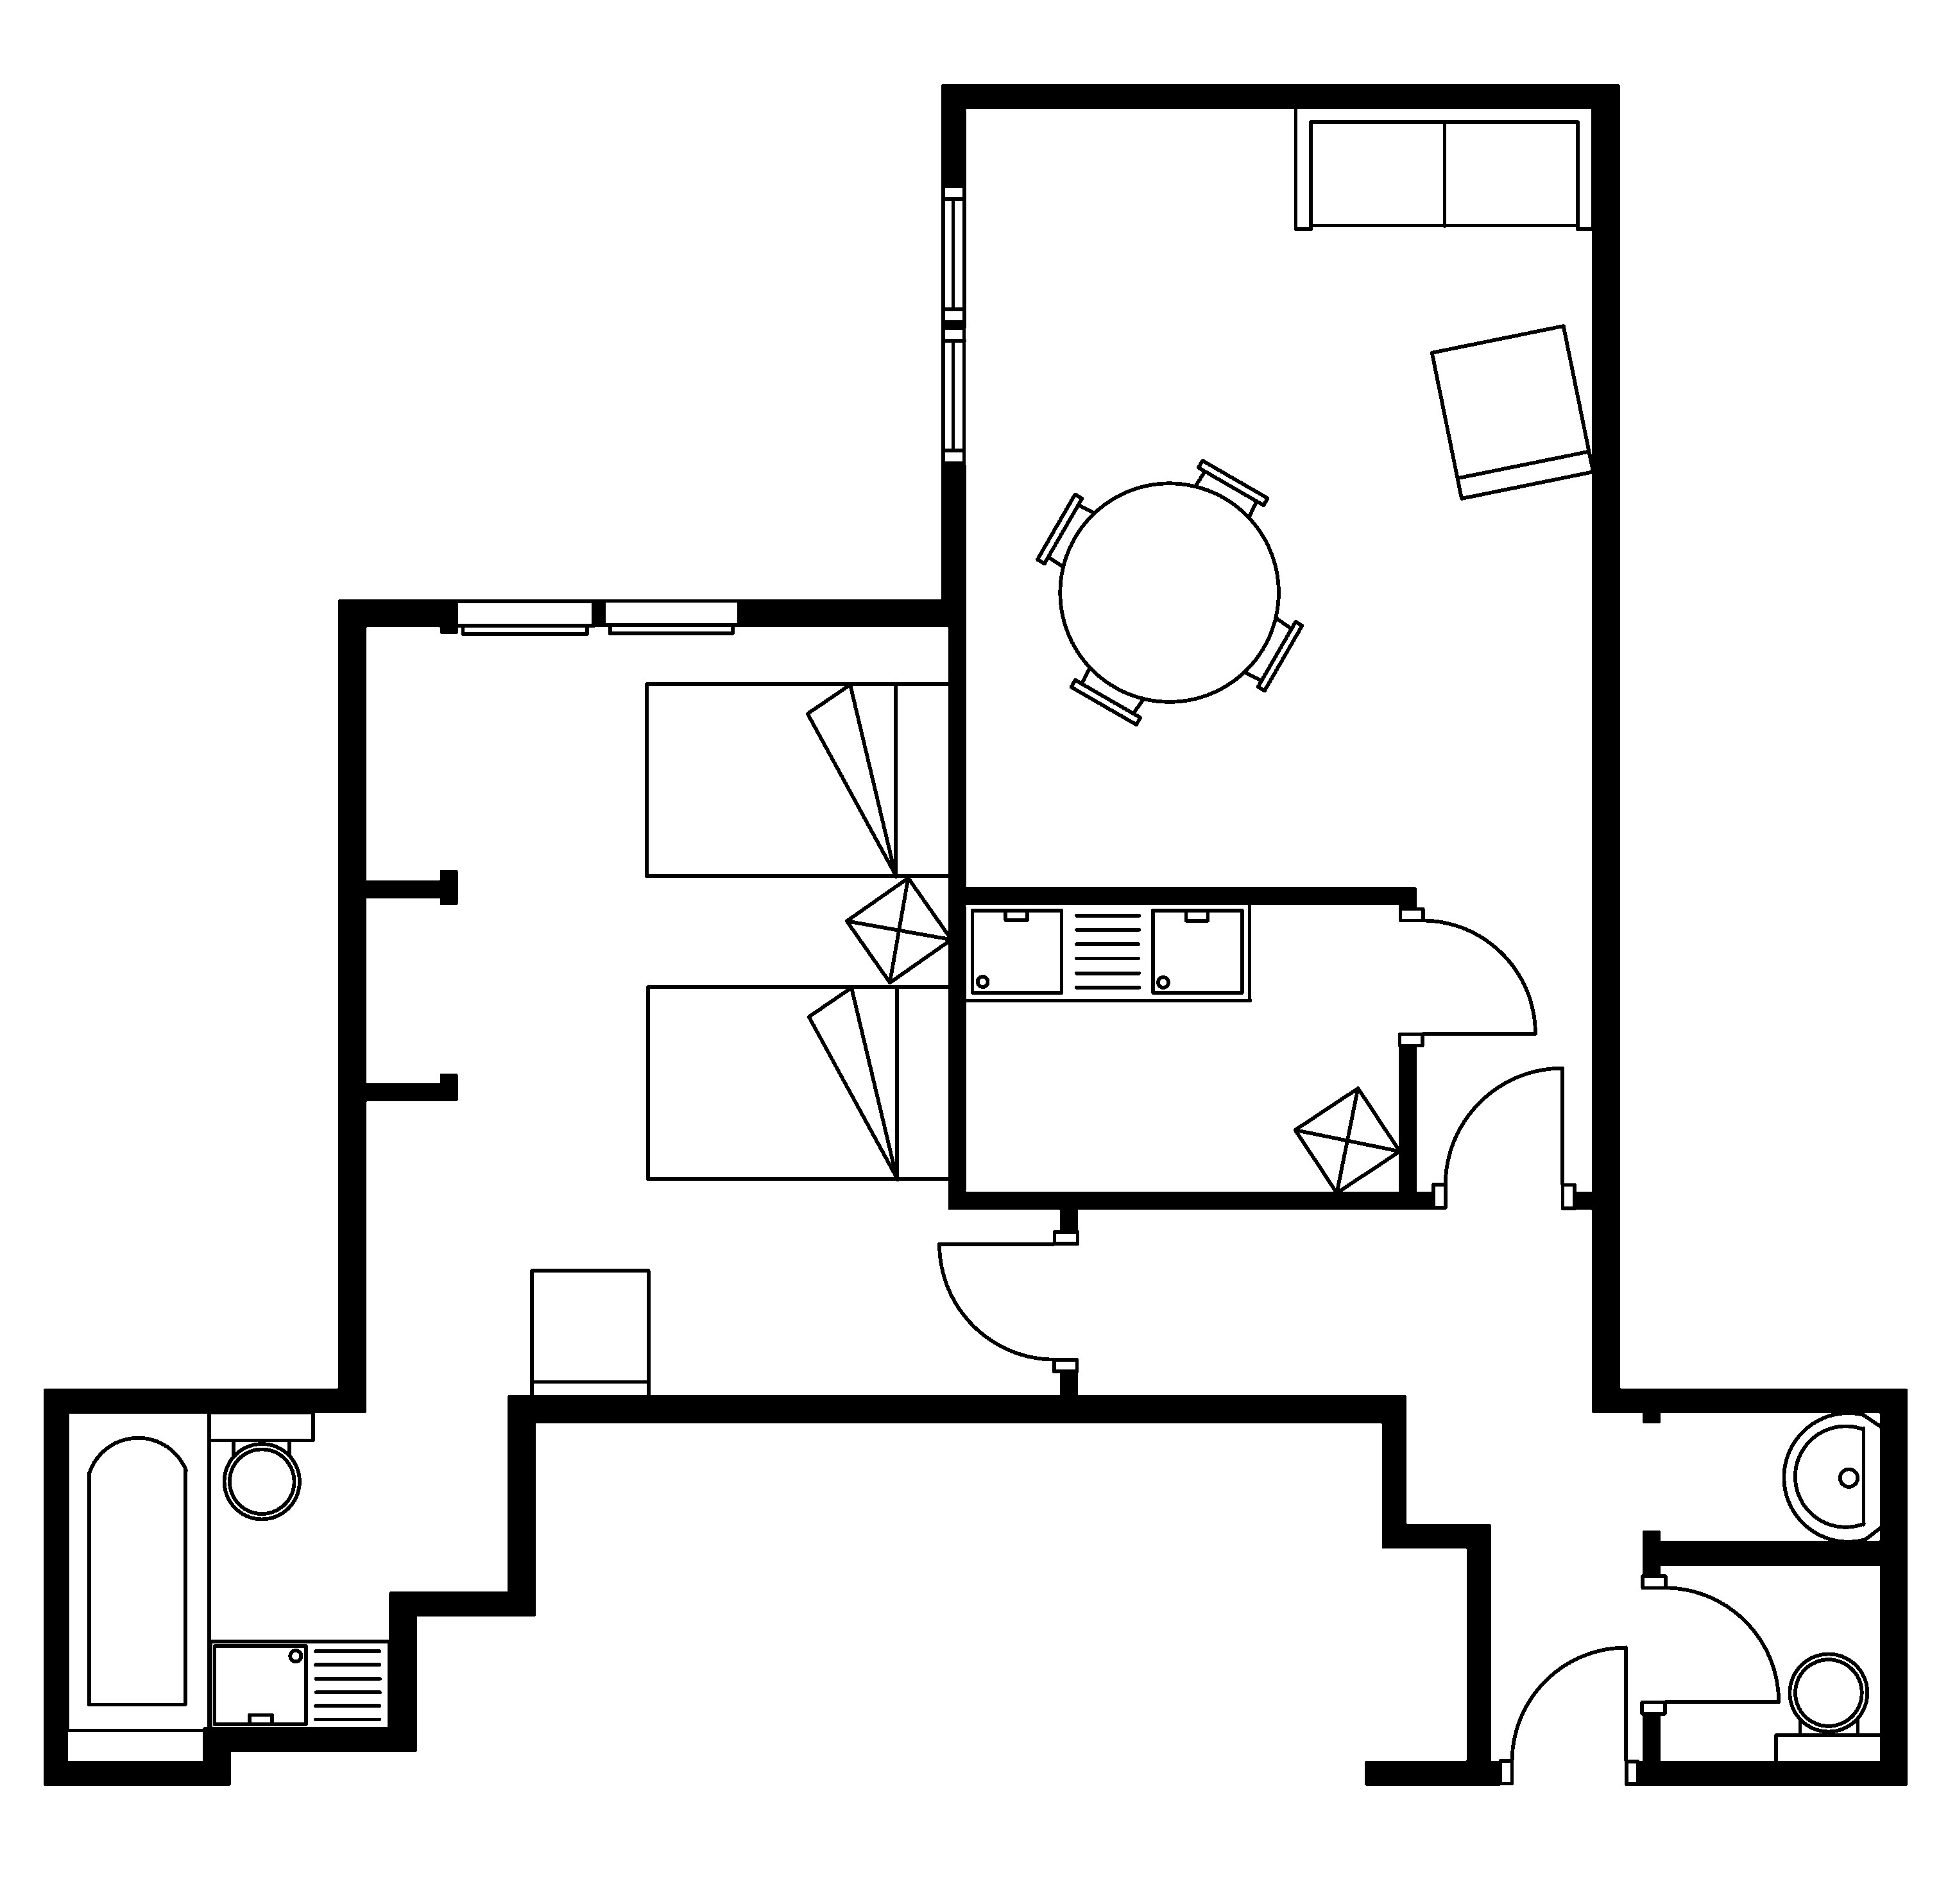bed: (644, 680, 952, 879), (645, 983, 954, 1182)
coffee_table: (1292, 1086, 1402, 1194), (844, 875, 952, 985)
large_sink: (1774, 1653, 1885, 1766), (206, 1411, 316, 1520)
large_sofa: (1292, 105, 1596, 230)
round_table: (1034, 457, 1304, 727)
sink: (208, 1639, 391, 1731)
small_sink: (1782, 1411, 1883, 1543)
small_sofa: (1428, 323, 1596, 500), (528, 1268, 650, 1402)
tub: (65, 1409, 211, 1733)
twin_sink: (961, 900, 1252, 1003)
